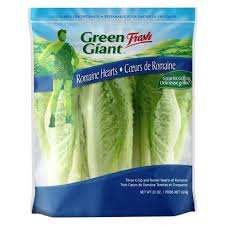Lettuce: (24, 16, 196, 225)
